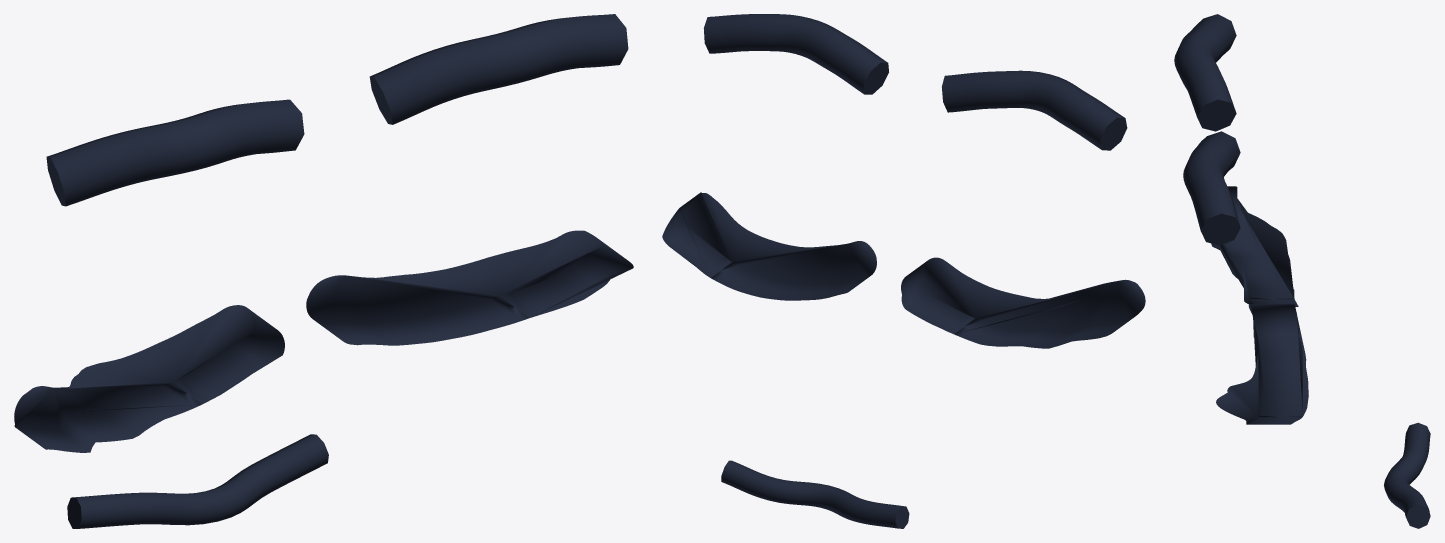
File: cloud-face-blink.glb
The picture shows the model from 3 angles, left to right: view 1: azimuth 30°, elevation 25°; view 2: azimuth 150°, elevation 25°; view 3: azimuth 270°, elevation 25°; orthographic projection. The views are drawn at different scales.
Parts seen in each view (by area): view 1: EyeClosed_R, EyeClosed_L, Brow_R, Brow_L, Mouth; view 2: EyeClosed_L, EyeClosed_R, Brow_L, Brow_R, Mouth; view 3: EyeClosed_R, EyeClosed_L, Brow_L, Brow_R, Mouth.
Boxes of the visible parts, x1,y1,x2,y2 form: EyeClosed_R: [306, 230, 633, 345]; EyeClosed_L: [14, 305, 284, 452]; Brow_R: [369, 14, 628, 124]; Brow_L: [46, 99, 304, 206]; Mouth: [67, 434, 328, 528]; EyeClosed_L: [901, 257, 1145, 348]; EyeClosed_R: [662, 192, 876, 300]; Brow_L: [942, 70, 1127, 150]; Brow_R: [703, 14, 888, 94]; Mouth: [721, 460, 909, 528]; EyeClosed_R: [1216, 304, 1308, 424]; EyeClosed_L: [1211, 186, 1298, 306]; Brow_L: [1174, 14, 1236, 131]; Brow_R: [1183, 131, 1240, 245]; Mouth: [1384, 422, 1430, 528].
Size of the model in its own units: 0.5568 by 0.4768 by 0.2783.
